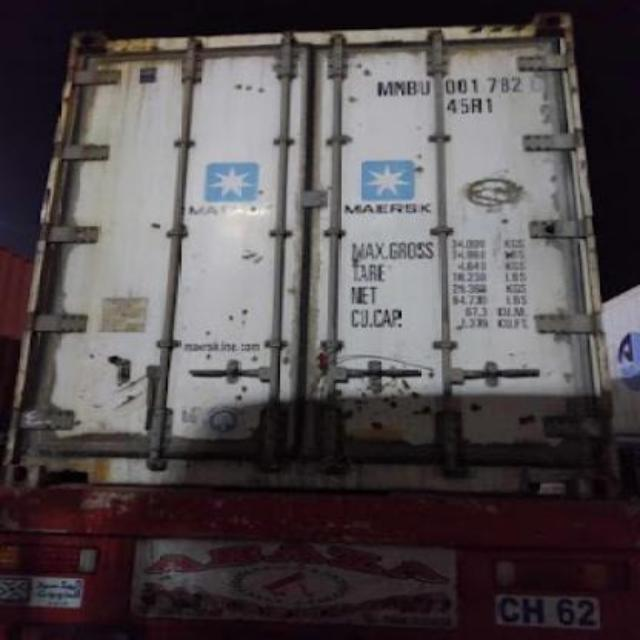0: (456, 76, 468, 96), (444, 78, 456, 96)
1: (470, 78, 480, 92)
2: (510, 75, 522, 93)
7: (484, 74, 498, 95)
8: (496, 73, 509, 93)
B: (406, 80, 418, 96)
M: (376, 81, 392, 97)
N: (394, 80, 406, 96)
U: (418, 80, 432, 96)
